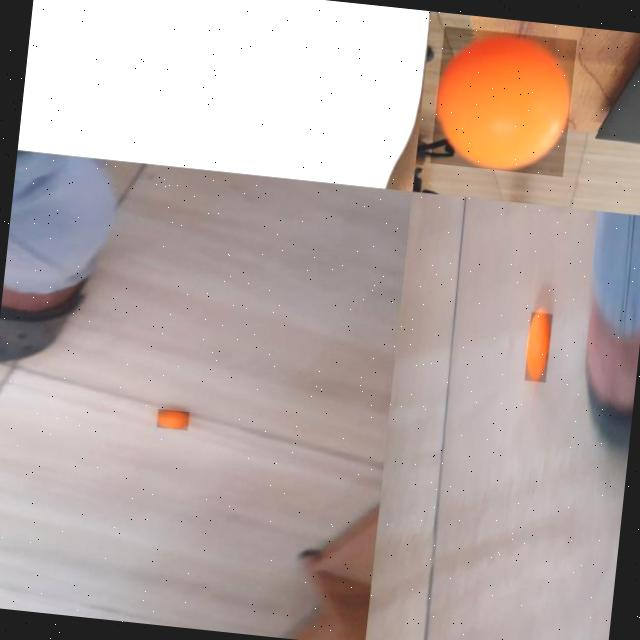ping-pong-ball: (428, 24, 576, 175), (522, 309, 552, 381), (154, 406, 188, 429)
